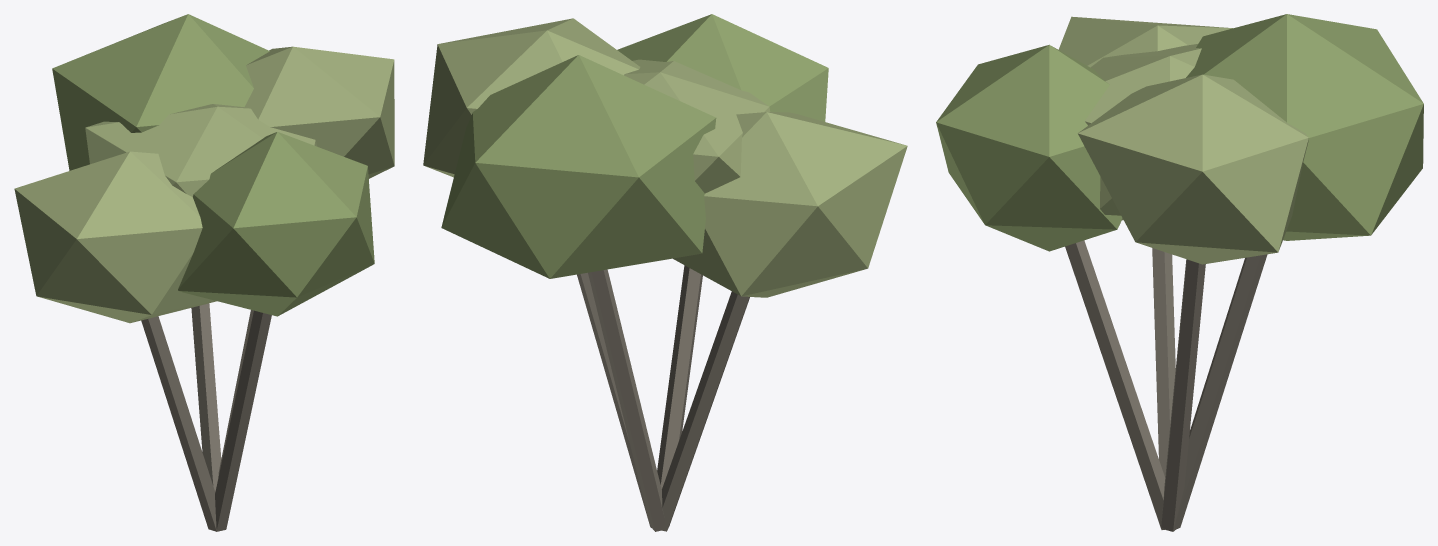
File: salg_2.glb
3 renders of one model, left to right at view 1: azimuth 30°, elevation 25°; view 2: azimuth 150°, elevation 25°; view 3: azimuth 270°, elevation 25°, orthographic. The views are drawn at different scales.
Parts seen in each view (by area): view 1: salg_2; view 2: salg_2; view 3: salg_2.
Part boxes in pixels (bbox=[...]): salg_2: bbox=[14, 14, 394, 531]; salg_2: bbox=[423, 14, 907, 531]; salg_2: bbox=[936, 14, 1423, 531].
Bounding box in the file's own units: 4.04 × 4.81 × 4.04.
